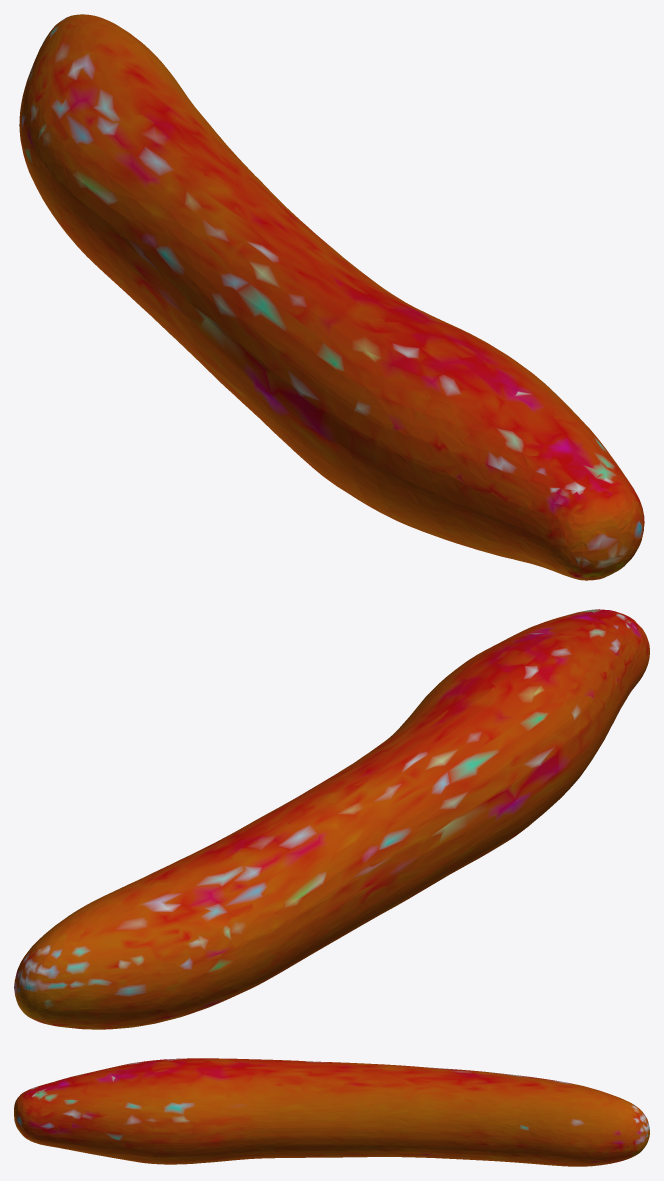
The model's file is 5_mesh_cousin_01.glb.
3 renders of one model, top to bottom at view 1: azimuth 30°, elevation 25°; view 2: azimuth 150°, elevation 25°; view 3: azimuth 270°, elevation 25°, orthographic. The views are drawn at different scales.
Parts seen in each view (by area): view 1: geometry_0; view 2: geometry_0; view 3: geometry_0.
Part boxes in pixels (<box>): geometry_0: <box>19,14,644,580</box>; geometry_0: <box>14,609,649,1029</box>; geometry_0: <box>14,1058,649,1166</box>.
Size of the model in its own units: 0.2137 by 0.1596 by 0.9994.
